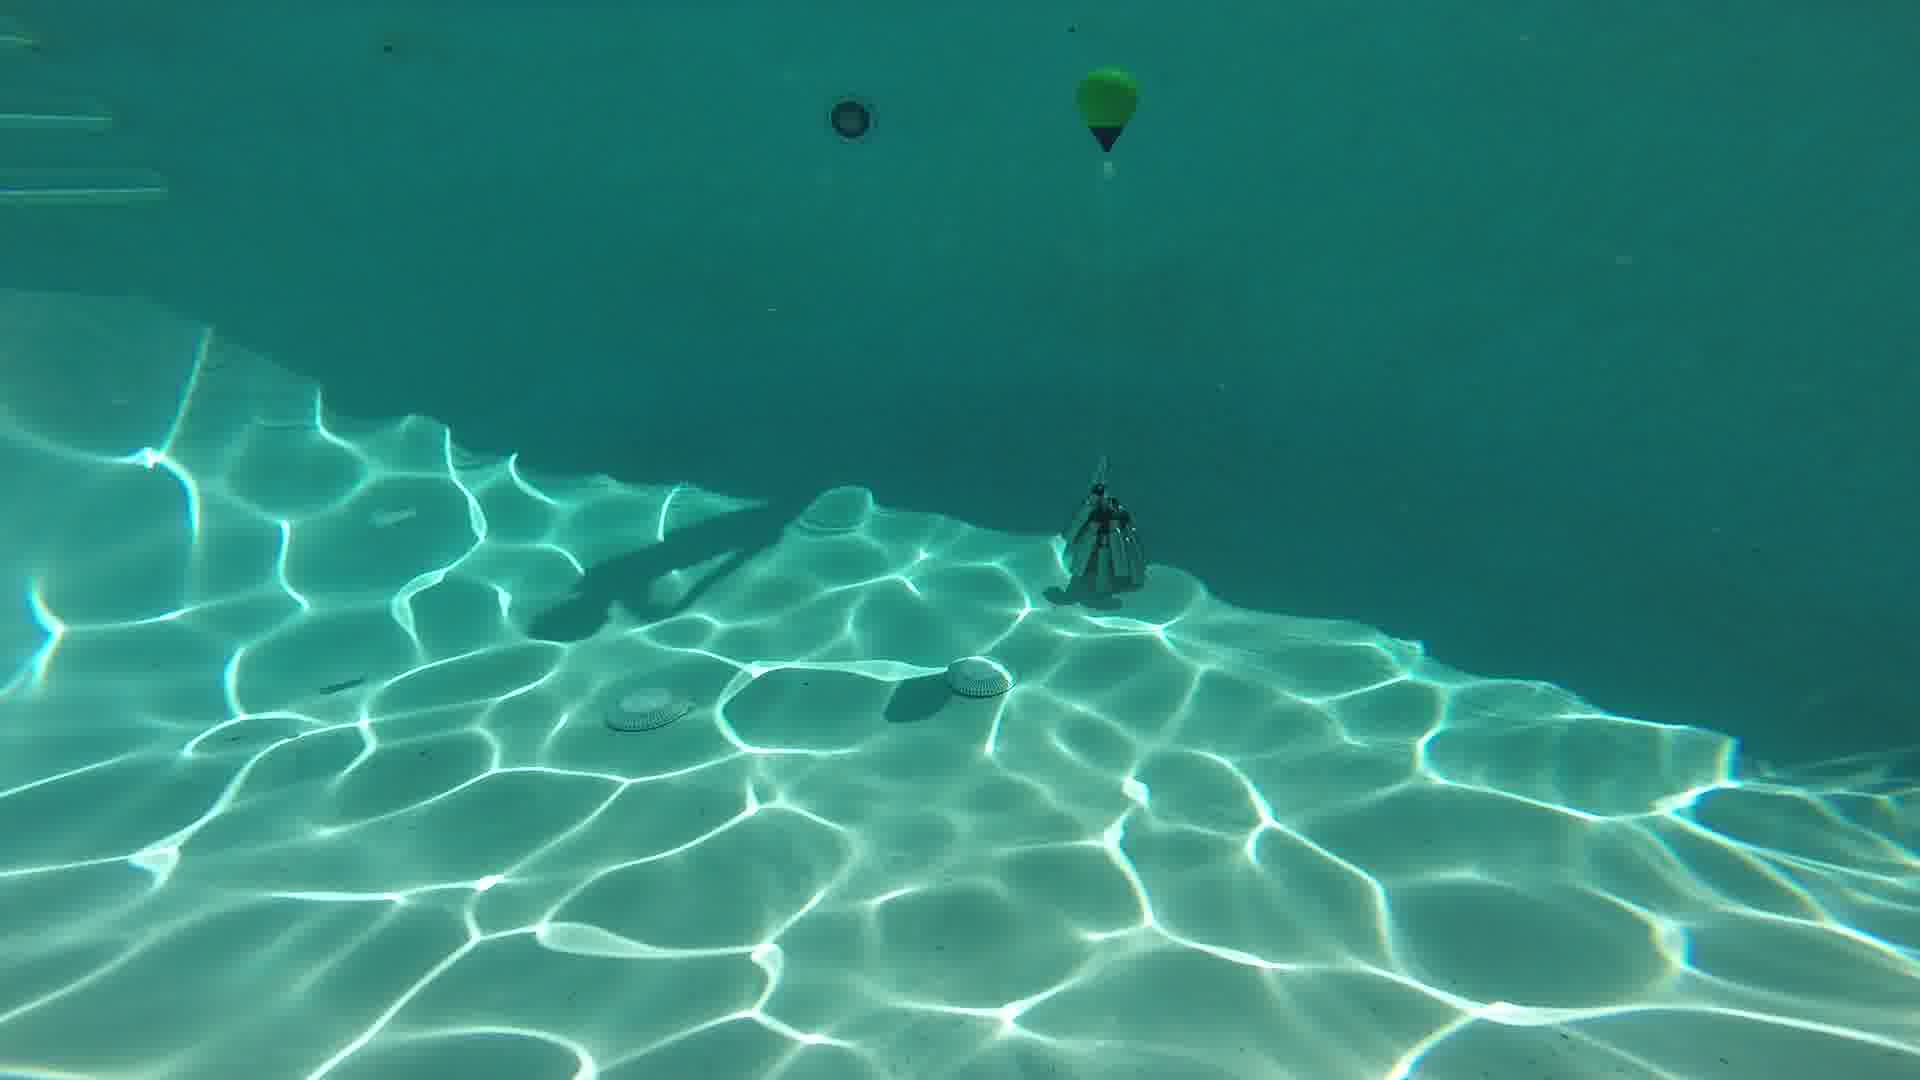yellow_buoy: (1076, 69, 1137, 154)
